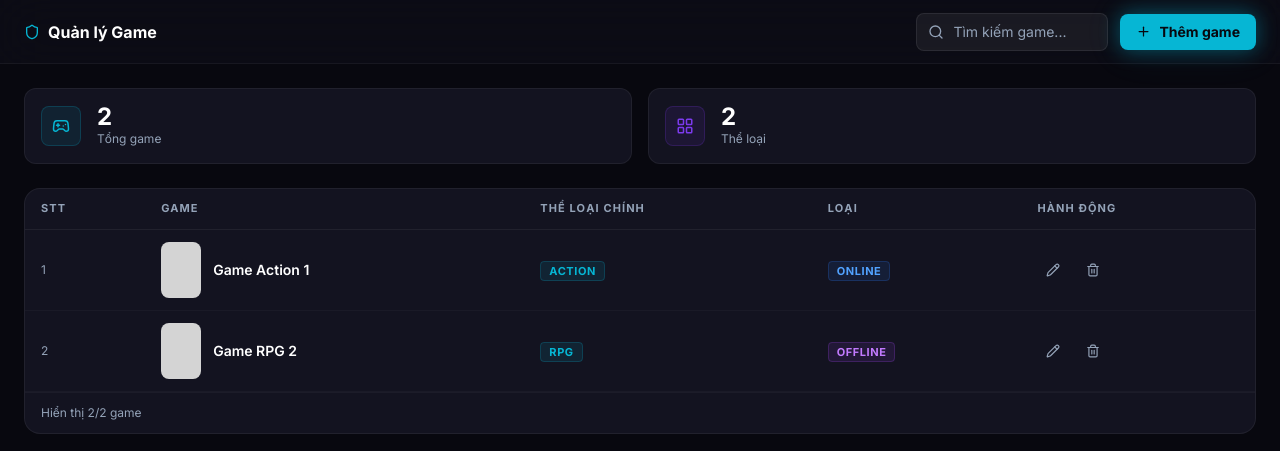
Test case: GameManagement Component › TC3: filters games by search term
# Tìm từ khóa tồn tại
Type "RPG" into the field with placeholder "Tìm kiếm game..." at (1012, 32), box x1=916 y1=12 x2=1108 y2=50
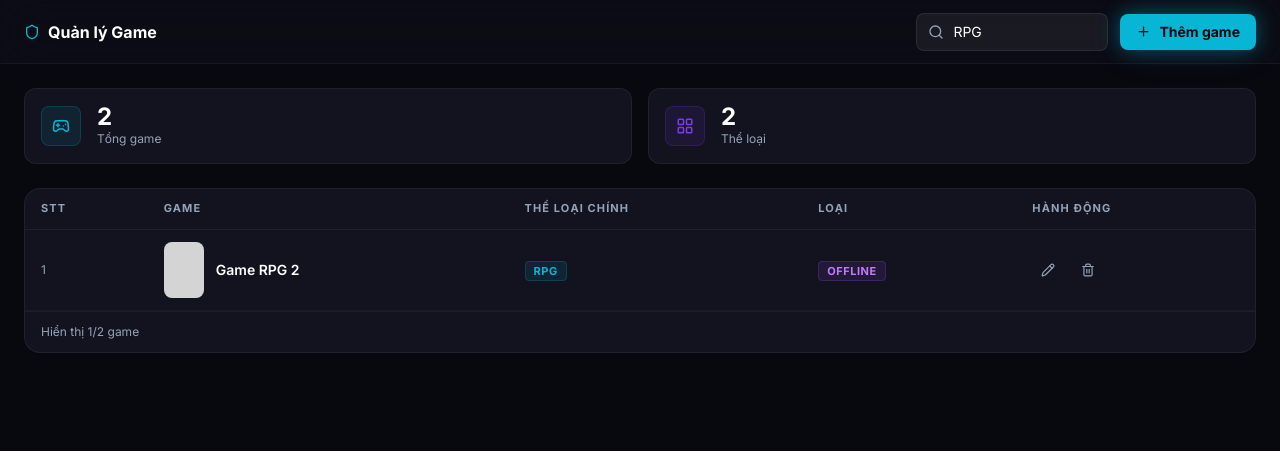
Expected: the text "Game RPG 2" is shown, x1=216 y1=260 x2=300 y2=280
Now the text "Game Action 1" is gone
# Tìm từ khóa không tồn tại
Replace the text in the field with placeholder "Tìm kiếm game..." with "Không tồn tại" at (1012, 32), box x1=916 y1=12 x2=1108 y2=50
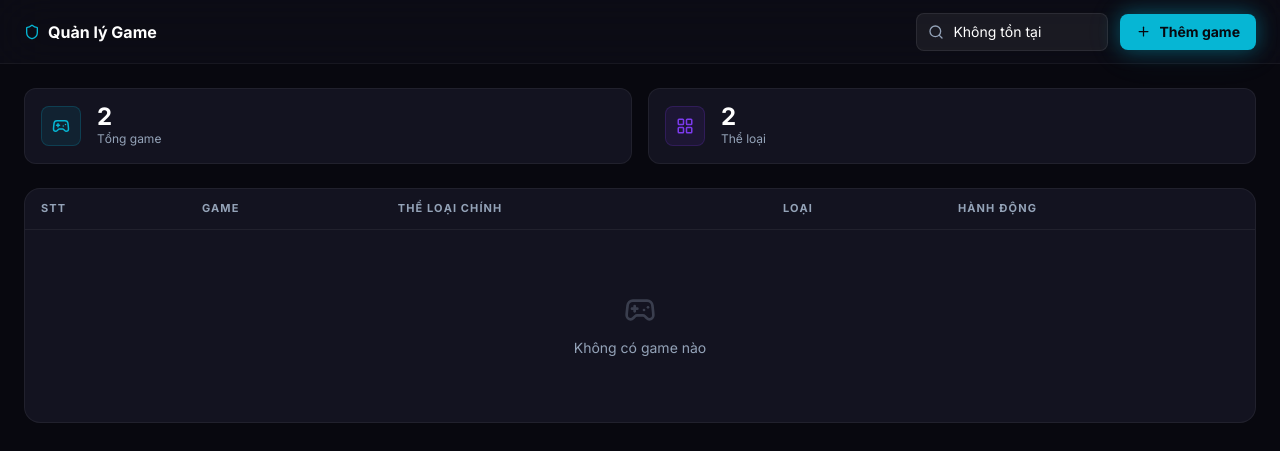
Now the text "Không có game nào" is shown, box x1=574 y1=339 x2=706 y2=356
